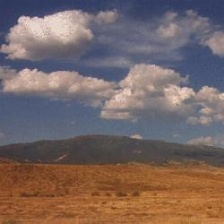neutral: (1, 2, 222, 224)
